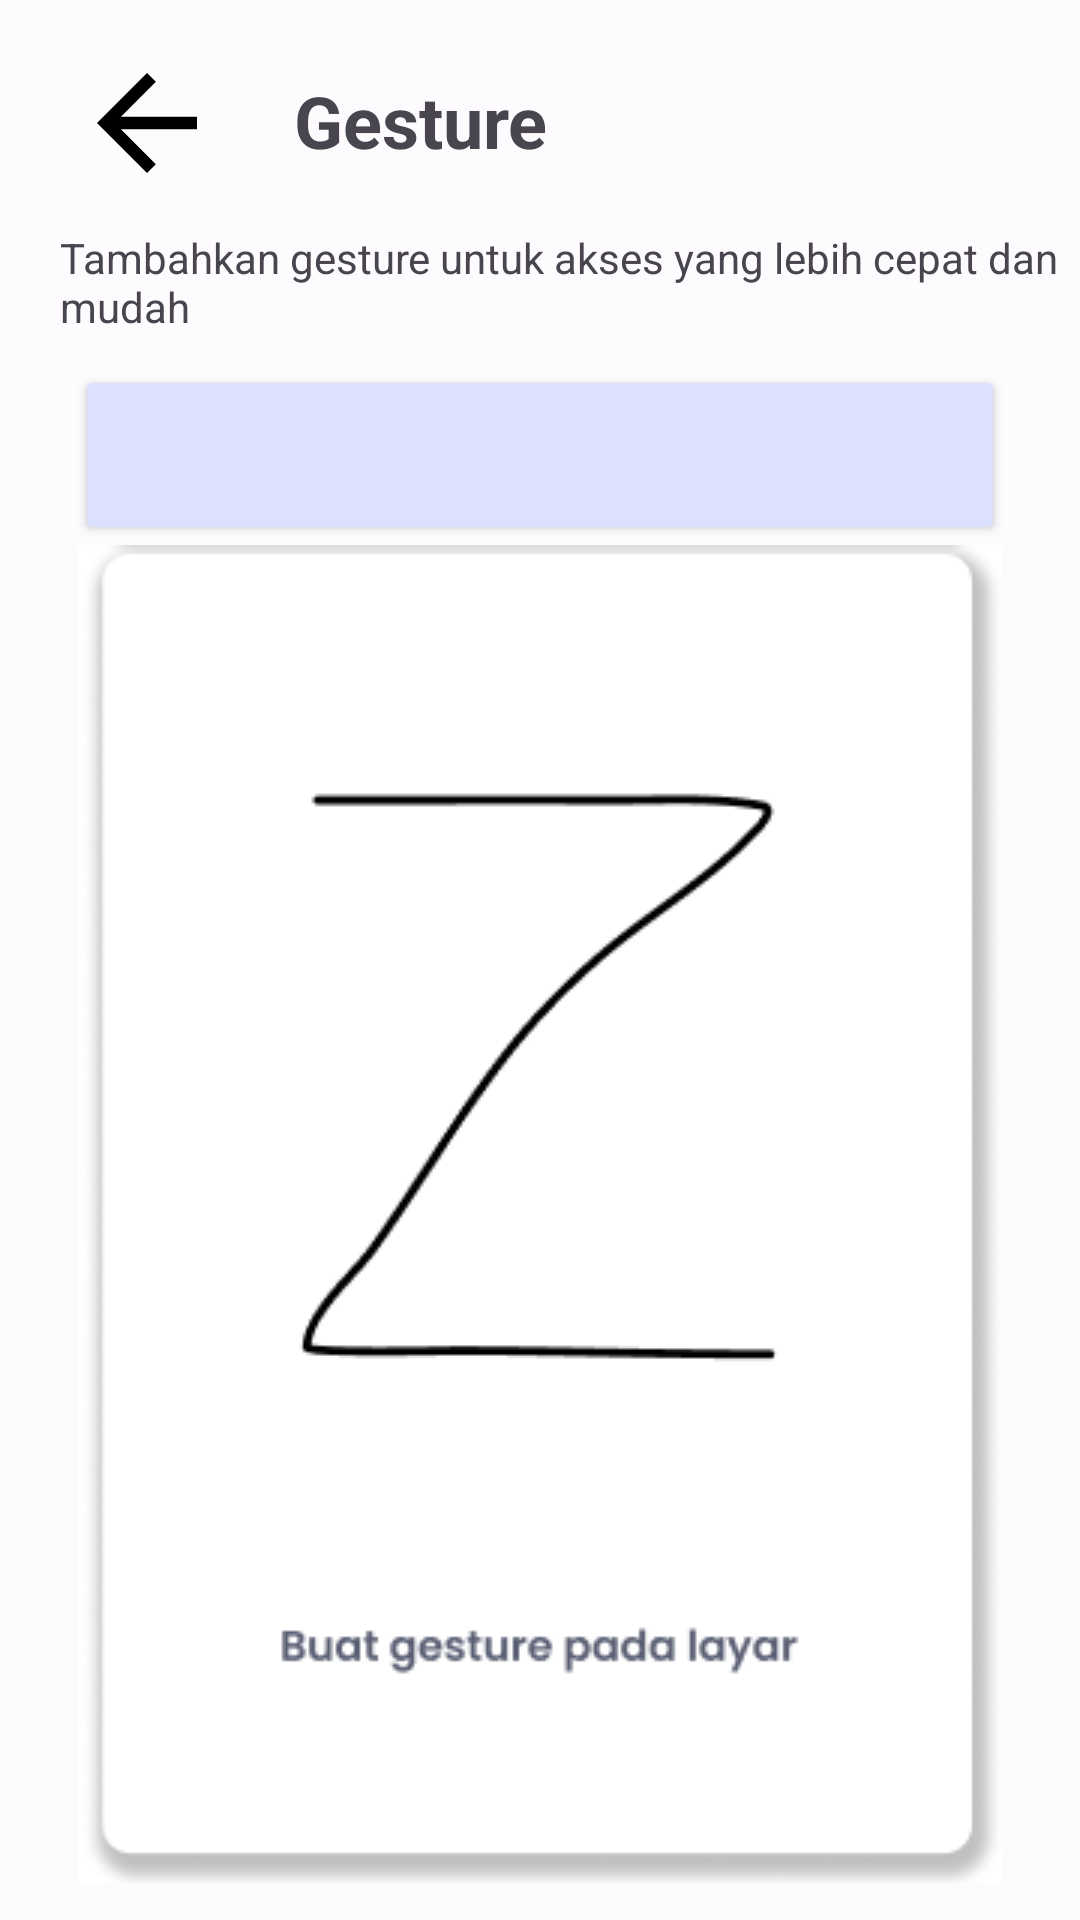

Icon bounding boxes for this 1080 x 1920 phone screenshot, format {"left": x1, "top": y1, "right": x2, "bottom": y2}:
arrow back: {"left": 97, "top": 73, "right": 197, "bottom": 173}
